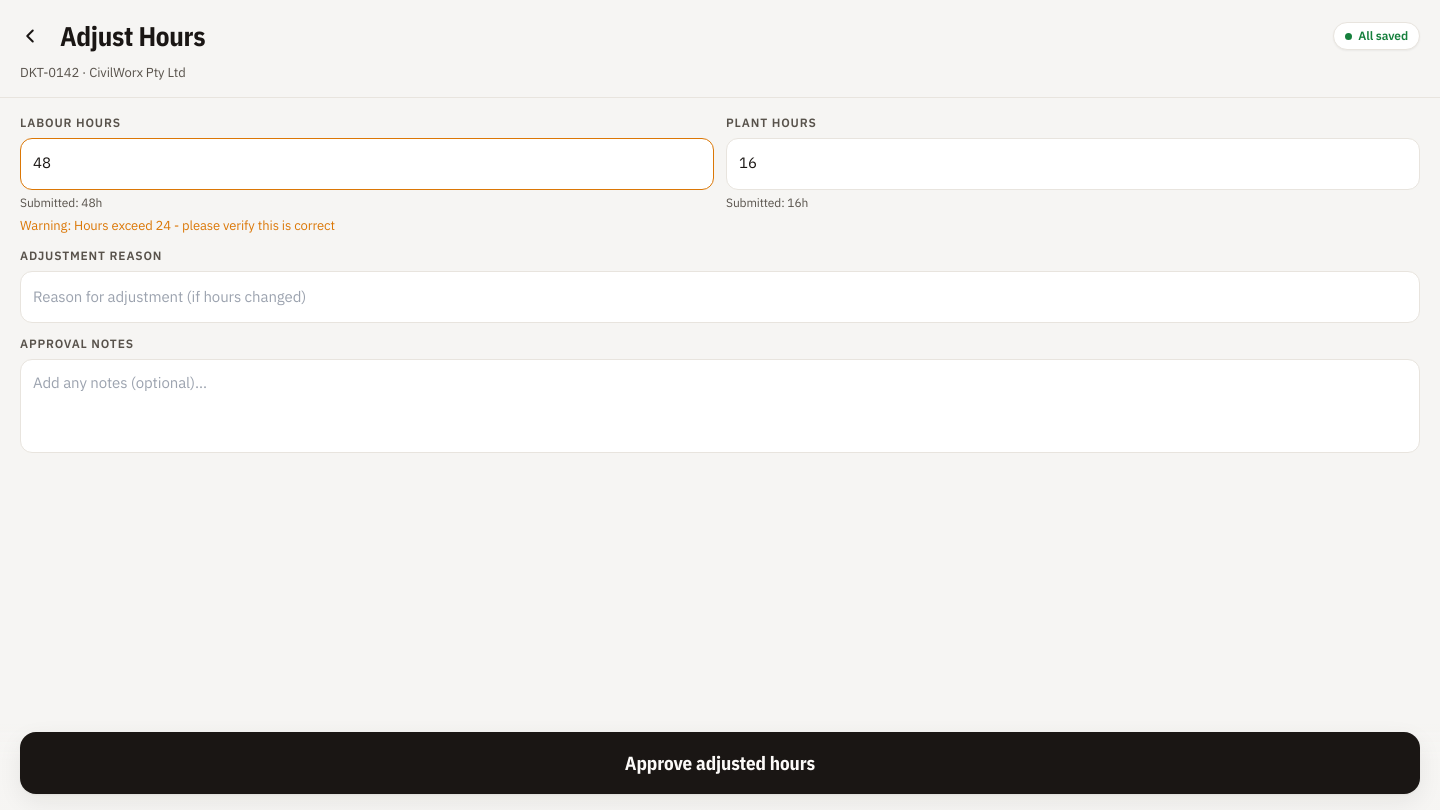
it: AdjustHoursScreen › requires an adjustment reason once hours change
Expected: the button with aria-label "Approve with adjusted hours" is enabled, [20, 732, 1420, 794]
Replace the text in the number field labelled "Labour hours" with "40" at (367, 164), box [20, 138, 714, 190]
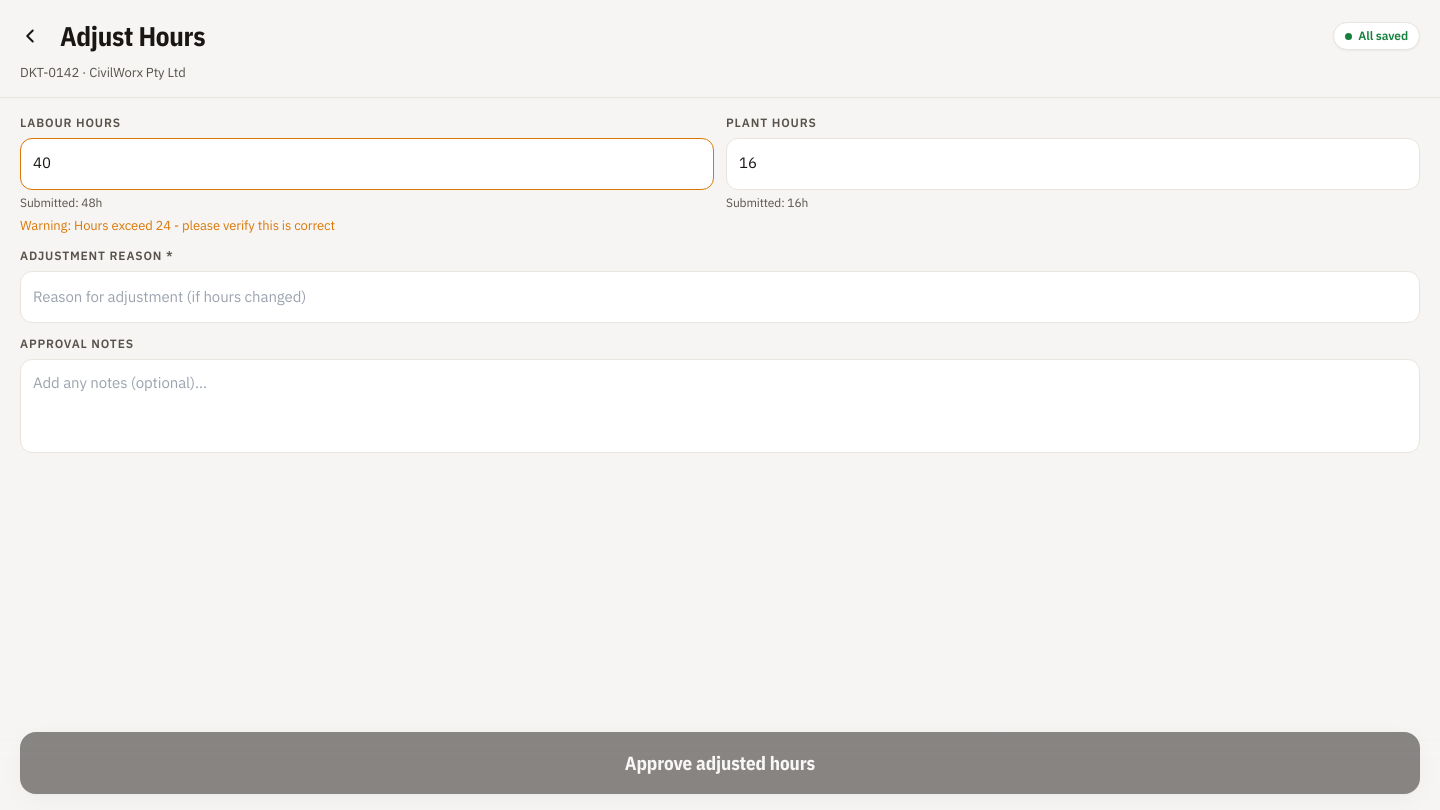
Expected: the button with aria-label "Approve with adjusted hours" is disabled, [20, 732, 1420, 794]
Type "Rounded down" into the field labelled "Adjustment reason *" at (720, 297), box [20, 271, 1420, 323]
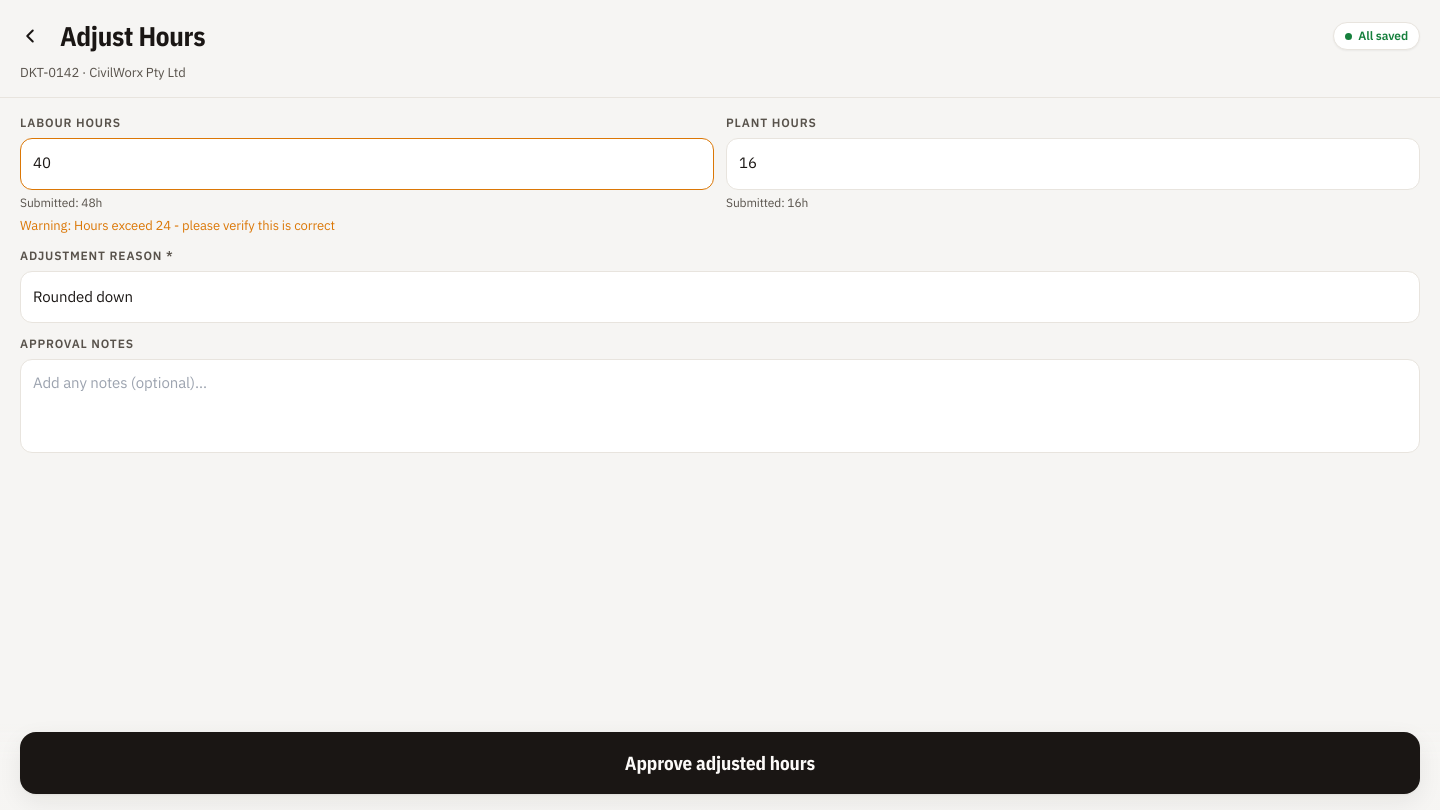
Expected: the button with aria-label "Approve with adjusted hours" is enabled, [20, 732, 1420, 794]
